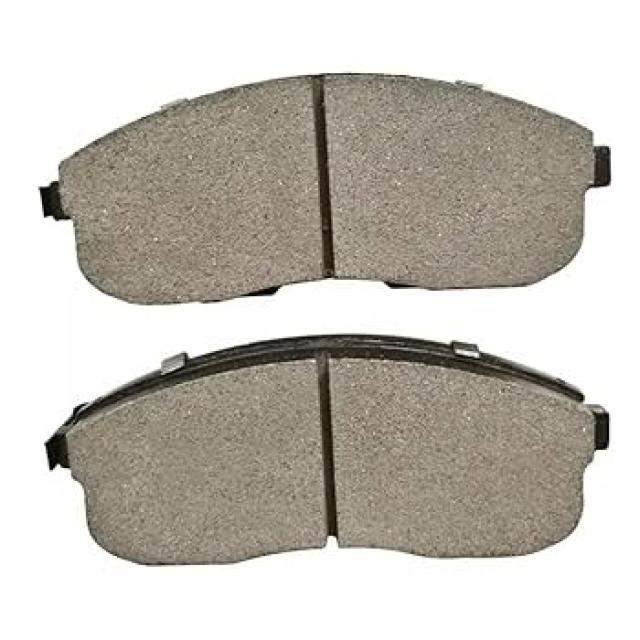brake_pad: (36, 62, 622, 302), (37, 334, 618, 570)
